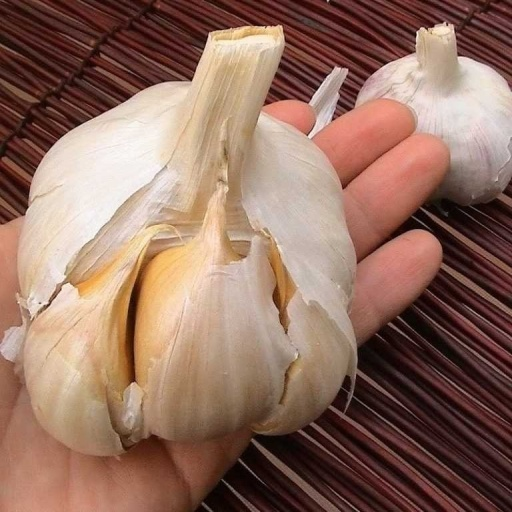Knoblauch: (16, 24, 360, 456)
